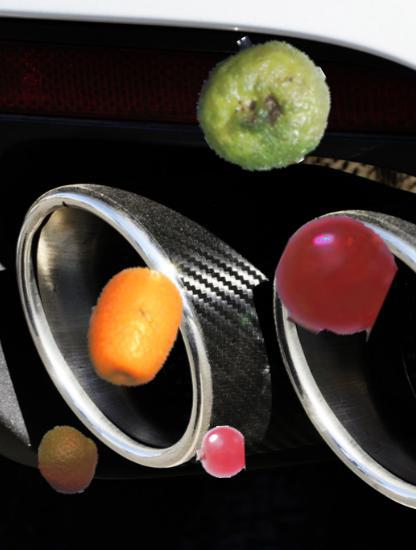Kumquats: (71, 264, 197, 390)
Limes: (196, 37, 332, 173)
Mandarine: (33, 424, 104, 495)
Redcurrant: (274, 216, 396, 338), (194, 426, 246, 478)
